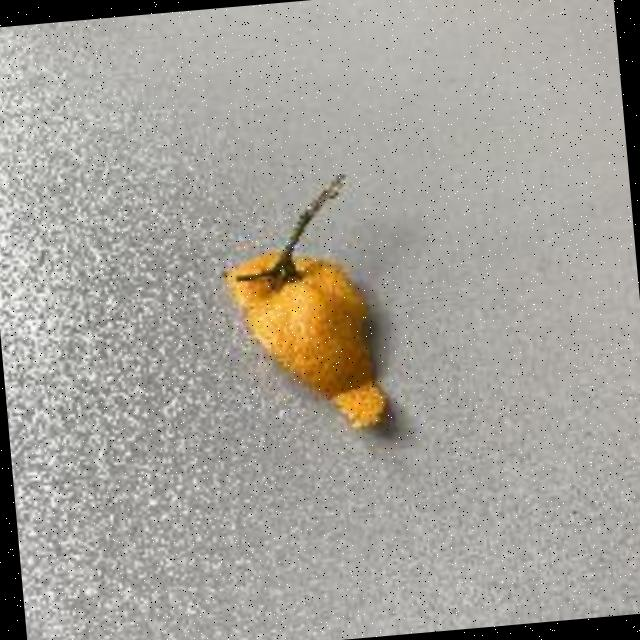orange-peel: (218, 237, 394, 442)
